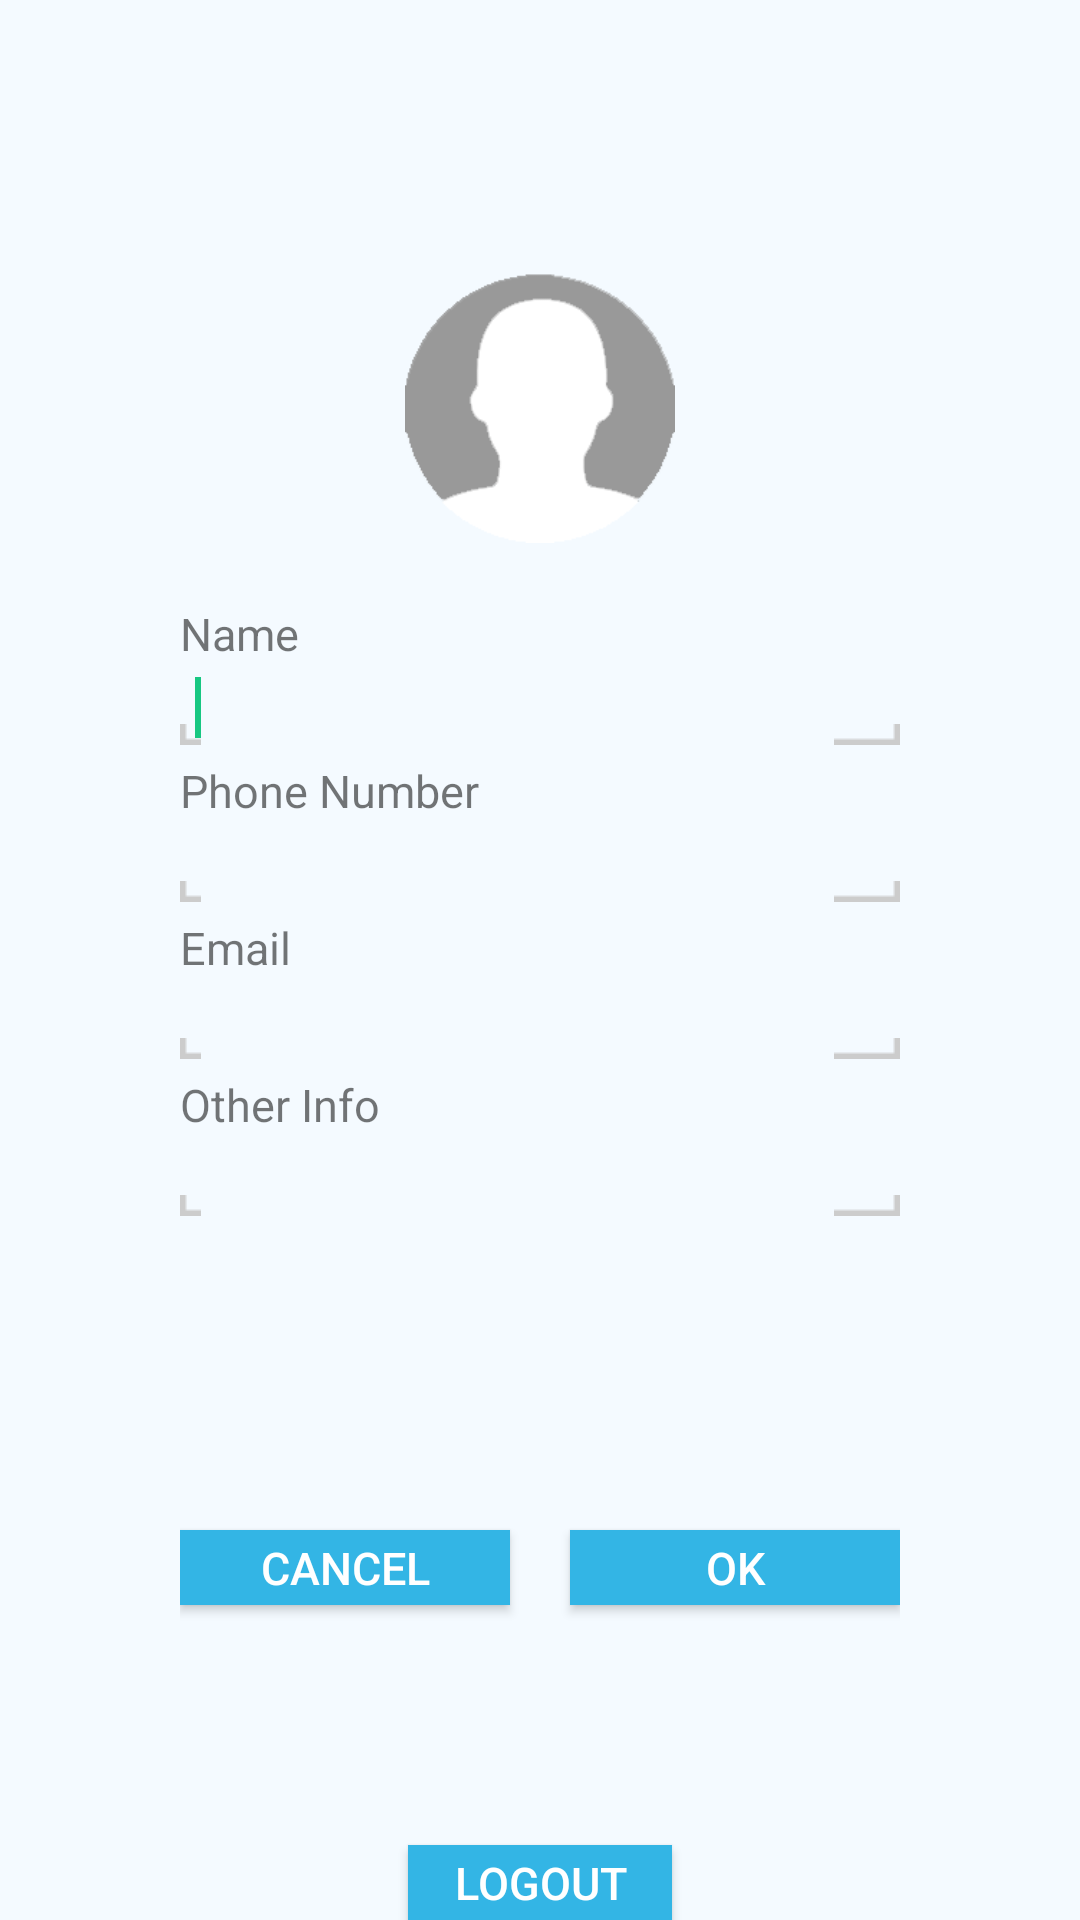

Where to tap for icons on this 1080w x 1920h app screen, as [x,y]:
user: [540,408]
